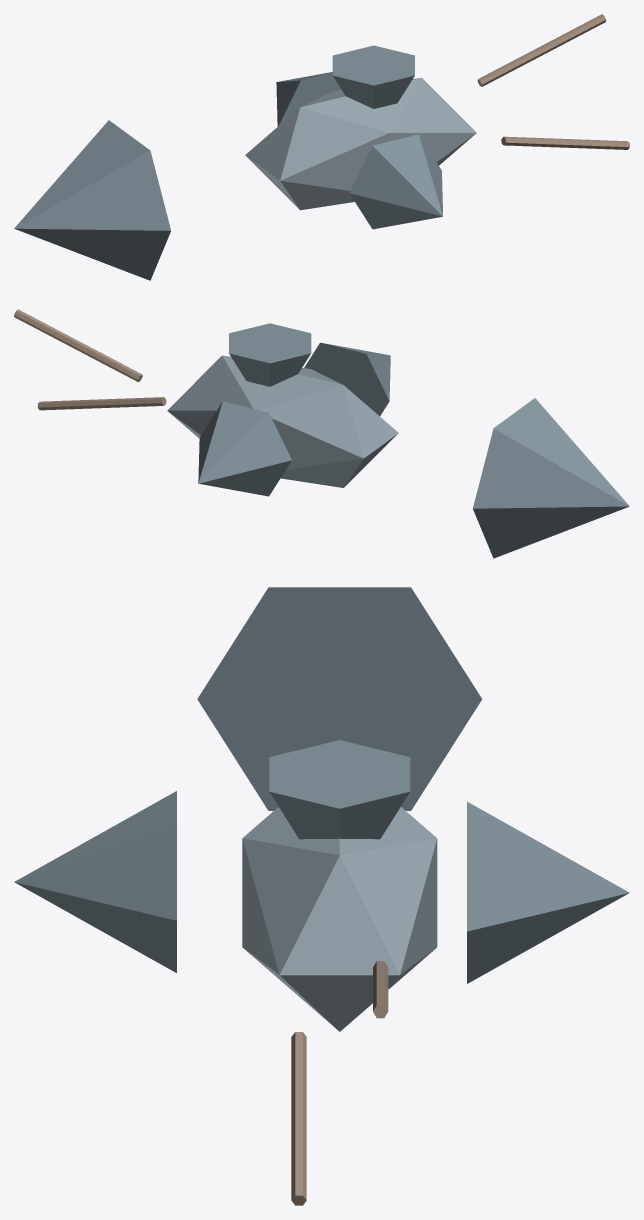
The model's file is catfish.glb.
3 views of the same model, one above another, from view 1: azimuth 30°, elevation 25°; view 2: azimuth 150°, elevation 25°; view 3: azimuth 270°, elevation 25° (orthographic). The views are drawn at different scales.
Visible parts, largest first — view 1: world; view 2: world; view 3: world.
Boxes of the visible parts, left/top/right/bottom form: world: left=14, top=14, right=629, bottom=280; world: left=14, top=309, right=629, bottom=558; world: left=14, top=587, right=629, bottom=1205.
Bounding box in the file's own units: 2.34 × 0.5225 × 1.21.
